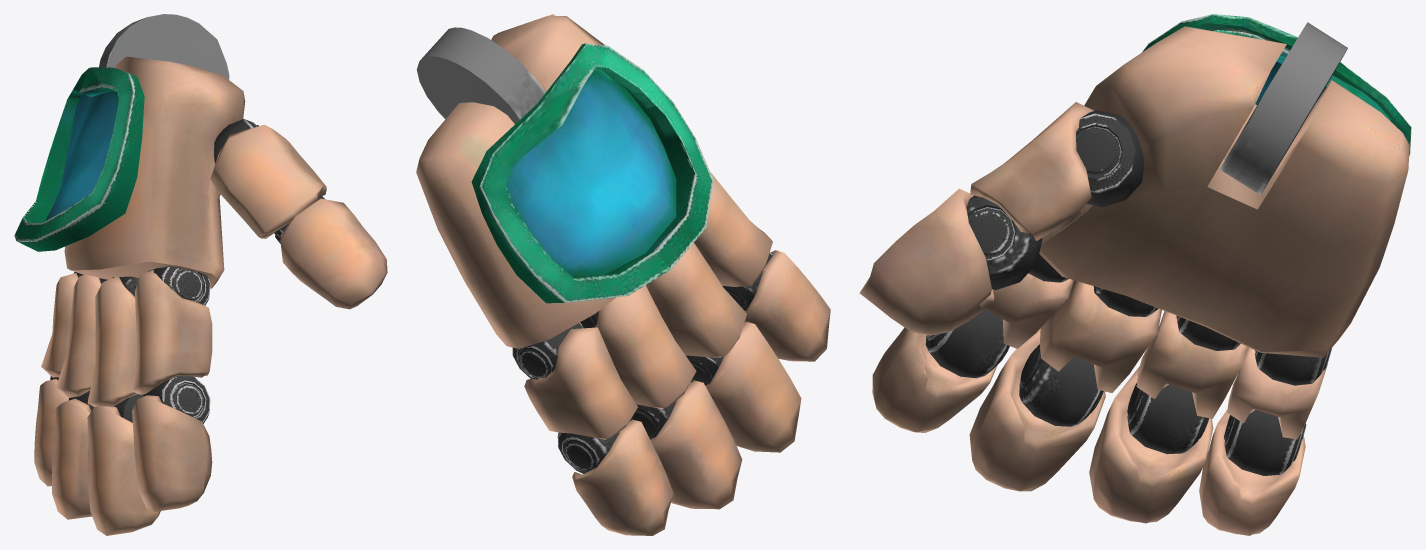
The model's file is handR.fbx.
3 views of the same model, side by side, from view 1: azimuth 30°, elevation 25°; view 2: azimuth 150°, elevation 25°; view 3: azimuth 270°, elevation 25° (orthographic). The views are drawn at different scales.
Visible parts, largest first — view 1: matte_0.006, metalic_0.002, matte_22.001, matte_11.001, matte_21.001, matte_12.001, matte_32.001, matte_31.001, matte_42.001, matte_41.001, matte_52.001, matte_51.001; view 2: metalic_0.002, matte_0.006, matte_51.001, matte_52.001, matte_32.001, matte_42.001, matte_41.001, matte_22.001, matte_31.001, matte_21.001; view 3: matte_0.006, matte_12.001, matte_11.001, matte_32.001, matte_42.001, matte_22.001, matte_52.001, matte_31.001, matte_41.001, matte_51.001, matte_21.001, metalic_0.002.
Part boxes in pixels (x1,y1,x2,y2): matte_0.006: (64, 14, 245, 288); metalic_0.002: (14, 67, 144, 251); matte_22.001: (132, 376, 212, 511); matte_11.001: (210, 119, 326, 238); matte_21.001: (131, 266, 212, 394); matte_12.001: (274, 195, 387, 309); matte_32.001: (87, 394, 160, 535); matte_31.001: (87, 276, 138, 406); matte_42.001: (51, 391, 94, 519); matte_41.001: (56, 274, 108, 397); matte_52.001: (34, 376, 68, 486); matte_51.001: (41, 272, 83, 377); metalic_0.002: (471, 43, 713, 303); matte_0.006: (416, 15, 615, 348); matte_51.001: (512, 322, 637, 439); matte_52.001: (557, 419, 673, 535); matte_32.001: (686, 321, 801, 452); matte_42.001: (630, 380, 742, 509); matte_41.001: (580, 285, 696, 408); matte_22.001: (722, 250, 830, 361); matte_31.001: (646, 243, 746, 357); matte_21.001: (694, 172, 772, 286); matte_0.006: (1039, 22, 1409, 357); matte_12.001: (859, 188, 1042, 335); matte_11.001: (970, 102, 1143, 243); matte_32.001: (969, 328, 1105, 491); matte_42.001: (1089, 366, 1213, 523); matte_22.001: (872, 309, 1009, 432); matte_52.001: (1199, 410, 1306, 535); matte_31.001: (1039, 280, 1161, 392); matte_41.001: (1136, 311, 1248, 418); matte_51.001: (1227, 347, 1331, 439); matte_21.001: (969, 254, 1073, 348); metalic_0.002: (1142, 14, 1411, 156).
Bounding box in the file's own units: 466 × 663 × 756.
